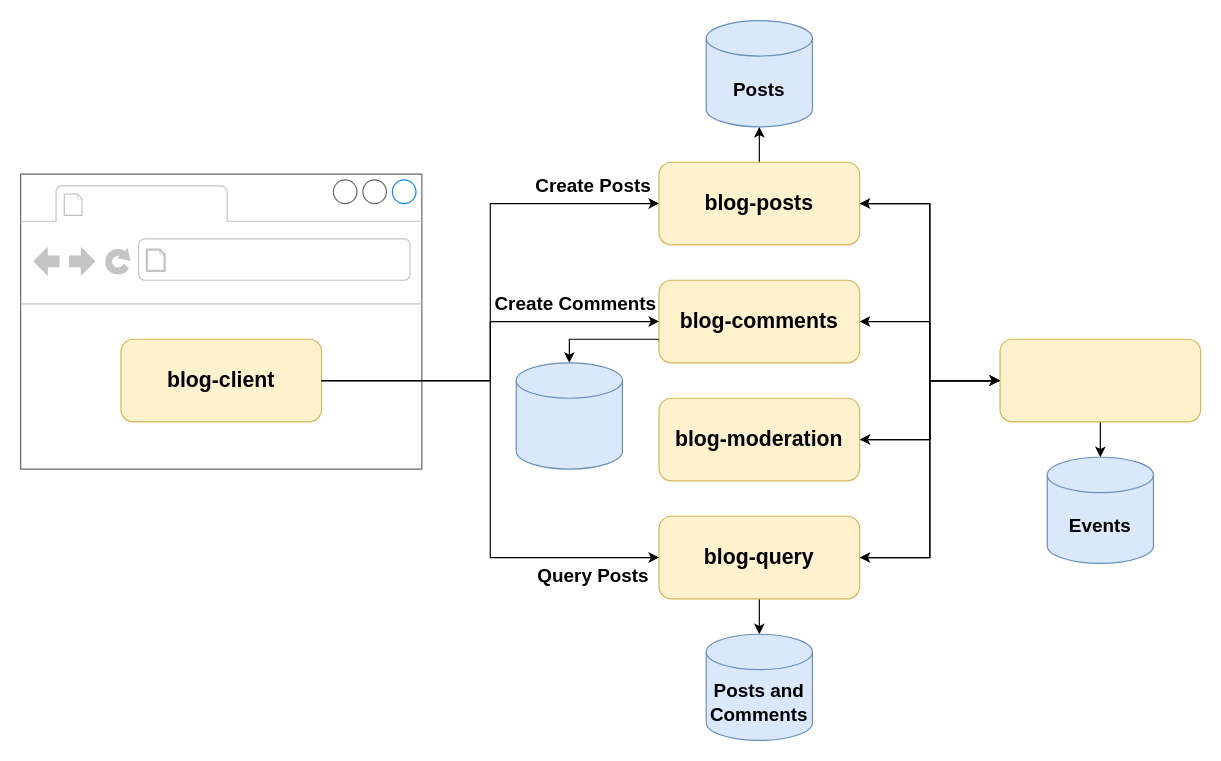
This 1221x761 diagram has some shape labels left out. The shapes that lost their labels are listed below. From the top down, each one's centre as x and y in pixels, then its label:
point 155,203: Page 1
point 321,260: blog-posts.com
point 1100,380: blog-event-bus
point 568,415: Comments
